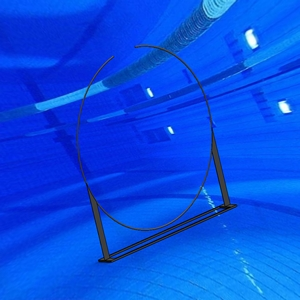circle: (75, 43, 239, 264)
